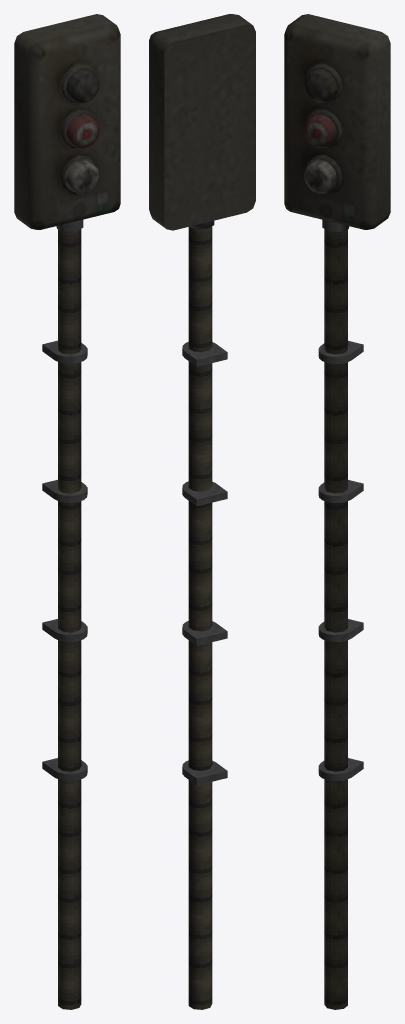
The model's file is button_12.obj.
3 views of the same model, side by side, from view 1: azimuth 30°, elevation 25°; view 2: azimuth 210°, elevation 25°; view 3: azimuth 330°, elevation 25° (orthographic).
Visible parts, largest first — view 1: button_12; view 2: button_12; view 3: button_12.
Part boxes in pixels (box(x1,y1,x2,y2)): button_12: box(14, 14, 120, 1009); button_12: box(149, 14, 255, 1009); button_12: box(284, 14, 390, 1009).
Size of the model in its own units: 0.11 by 1.12 by 0.063.
